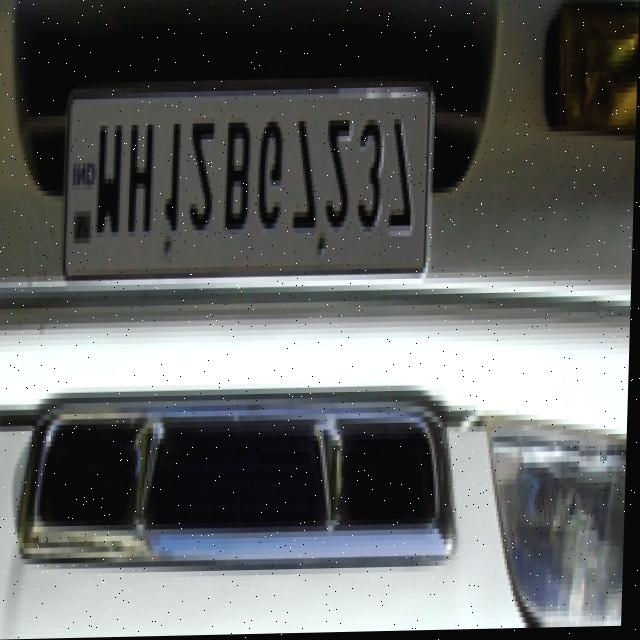plate: (66, 91, 434, 279)
